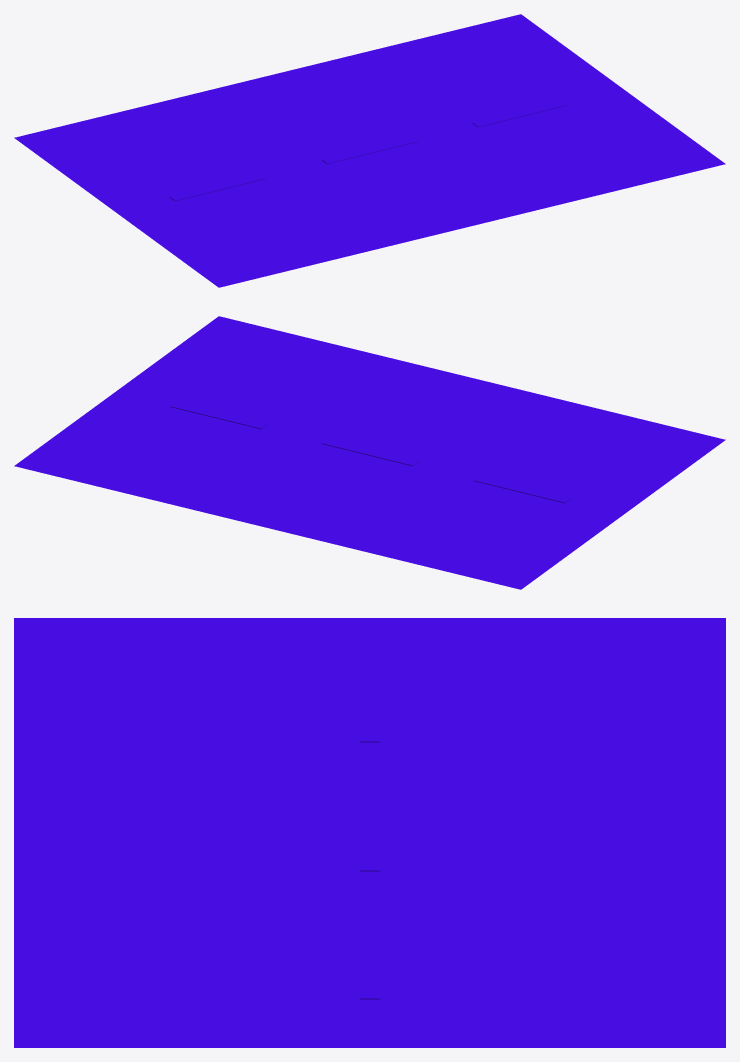
File: Street_5m (2).fbx
3 renders of one model, top to bottom at view 1: azimuth 30°, elevation 25°; view 2: azimuth 150°, elevation 25°; view 3: azimuth 270°, elevation 25°, orthographic. The views are drawn at different scales.
Visible parts, largest first — view 1: Street_5m; view 2: Street_5m; view 3: Street_5m.
Part boxes in pixels (x1,y1,x2,y2): Street_5m: (14, 14, 725, 287); Street_5m: (14, 316, 725, 589); Street_5m: (14, 618, 725, 1047).
Bounding box in the file's own units: 500 × 1.36 × 350.
